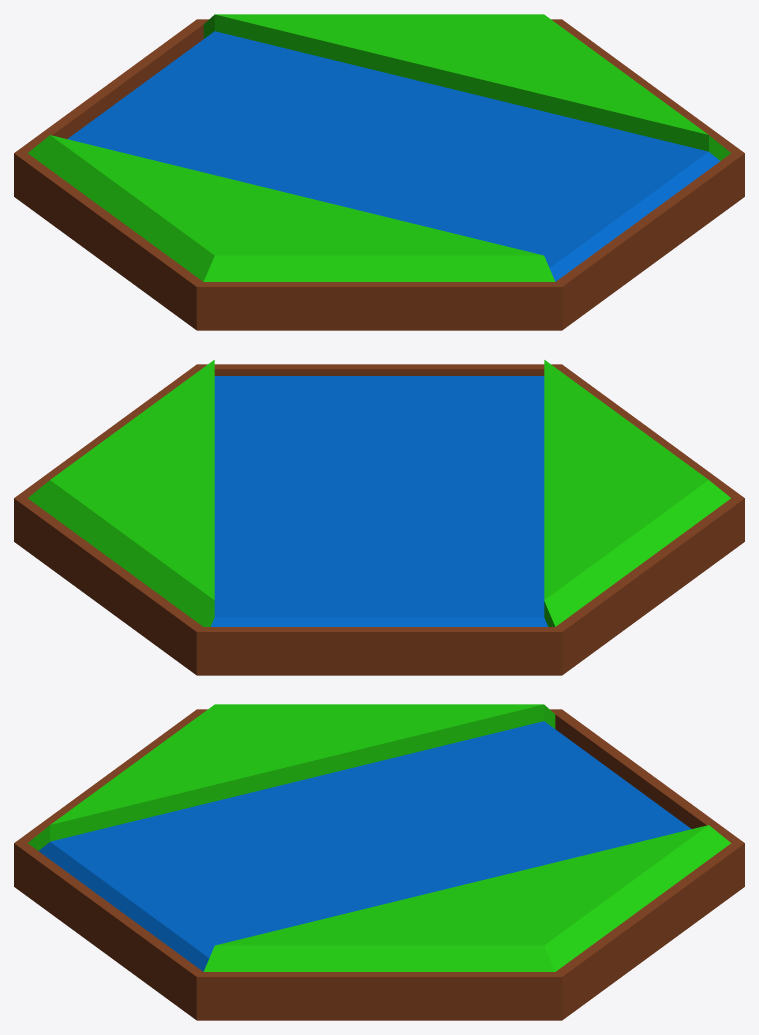
The picture shows the model from 3 angles, top to bottom: view 1: azimuth 30°, elevation 25°; view 2: azimuth 150°, elevation 25°; view 3: azimuth 270°, elevation 25°; orthographic projection.
Parts seen in each view (by area): view 1: SL1; view 2: SL1; view 3: SL1.
Part boxes in pixels (bbox=[...]): SL1: bbox=[14, 14, 744, 330]; SL1: bbox=[14, 360, 744, 675]; SL1: bbox=[14, 704, 744, 1020].
Bounding box in the file's own units: 173 × 18.65 × 200.
